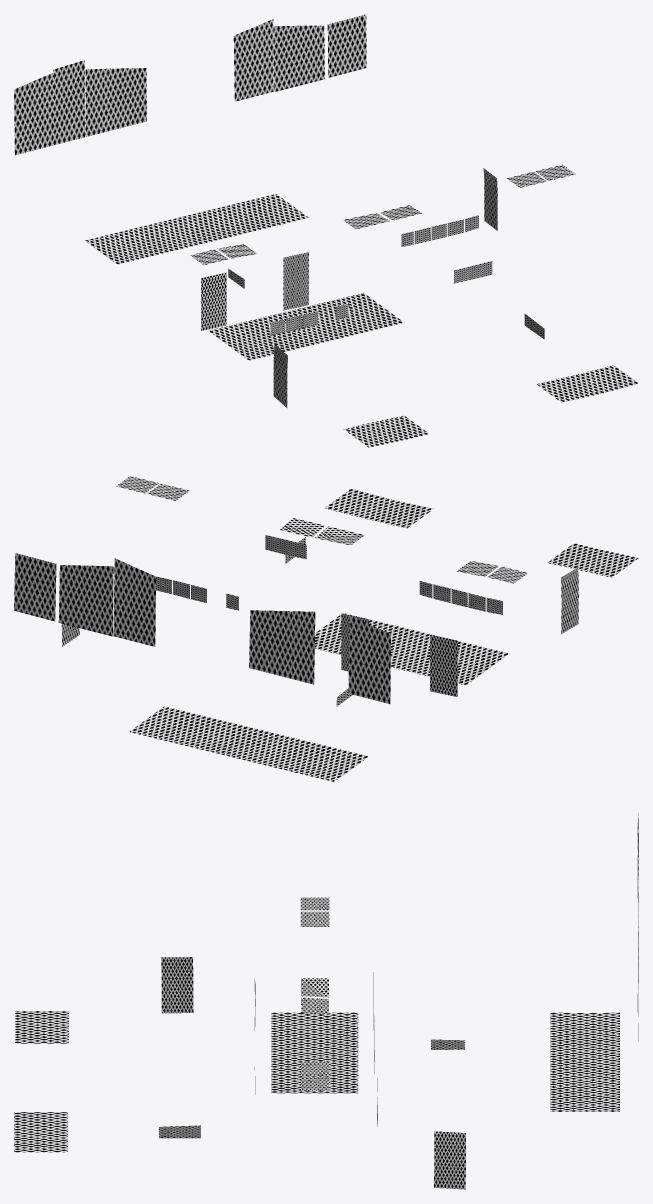
File: SM_WestVillage_wireMesh00.fbx
3 renders of one model, top to bottom at view 1: azimuth 30°, elevation 25°; view 2: azimuth 150°, elevation 25°; view 3: azimuth 270°, elevation 25°, orthographic. The views are drawn at different scales.
Visible parts, largest first — view 1: SM_WestVillage_wireMesh00; view 2: SM_WestVillage_wireMesh00; view 3: SM_WestVillage_wireMesh00.
Part boxes in pixels (box(x1,y1,x2,y2)): SM_WestVillage_wireMesh00: box(14, 14, 638, 447); SM_WestVillage_wireMesh00: box(14, 476, 638, 781); SM_WestVillage_wireMesh00: box(14, 813, 638, 1189).
Bounding box in the file's own units: 3022 × 1281 × 3818.
